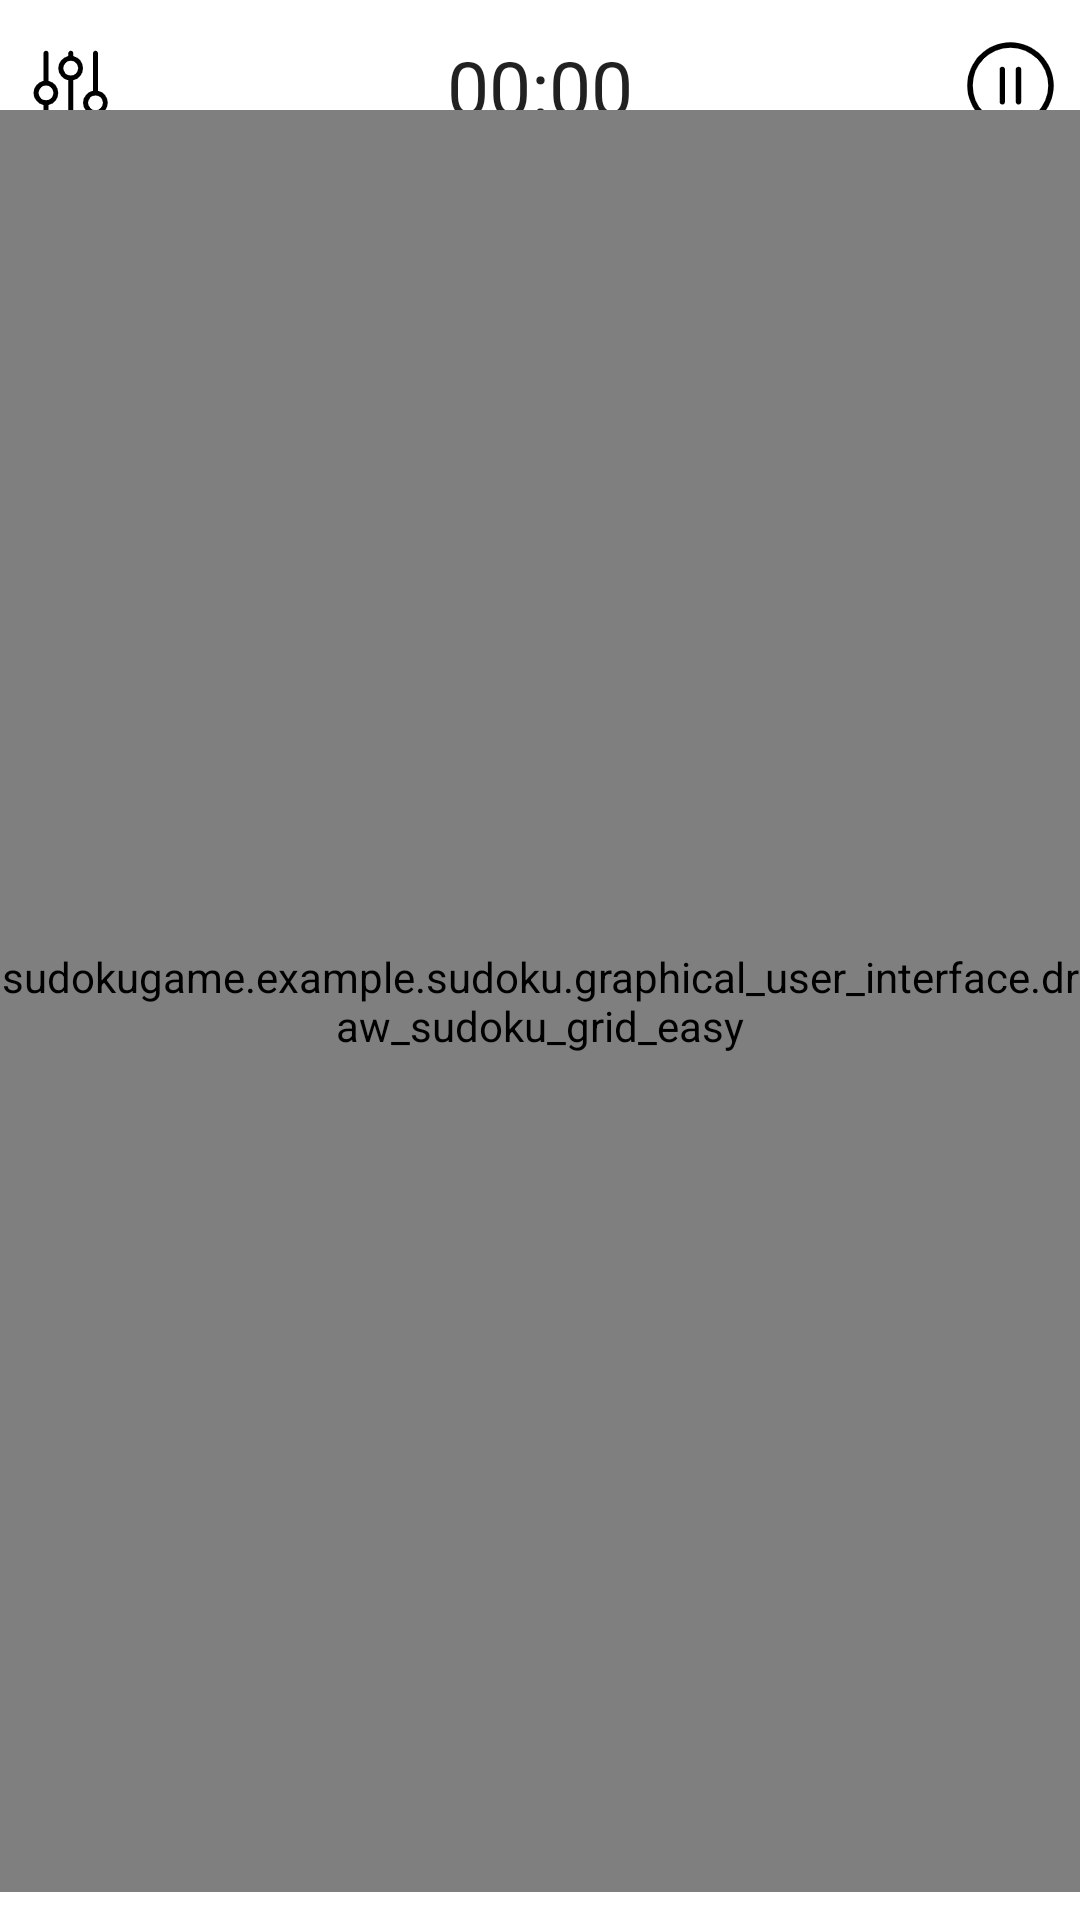

Screen size 1080w x 1920h. Icon name, then its center in pixels as [x,y]:
music setting: [69,92]
pause: [1010,88]
